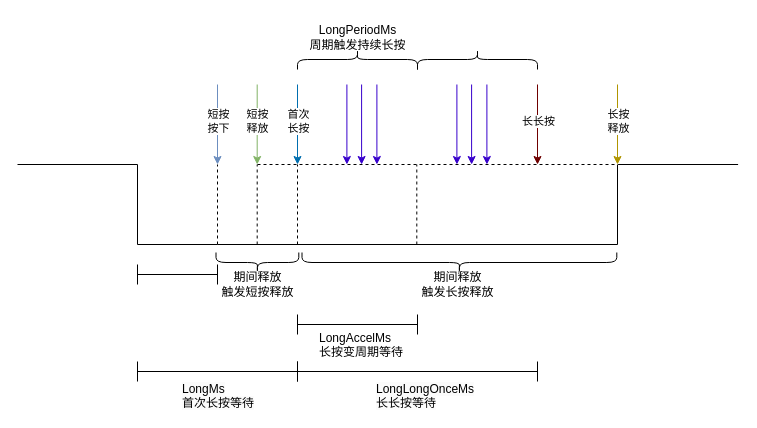
Some shapes in this 757 by 428 pixel diagram are drawn without their labels. The shapes that lost their labels are listed below. From the top down, each one's centre as x and y in pixels, then its label:
At point (477, 59): "LongAccelPeriodMs 周期触发持续长按".
At point (177, 274): "JitterMs 消抖时间".
